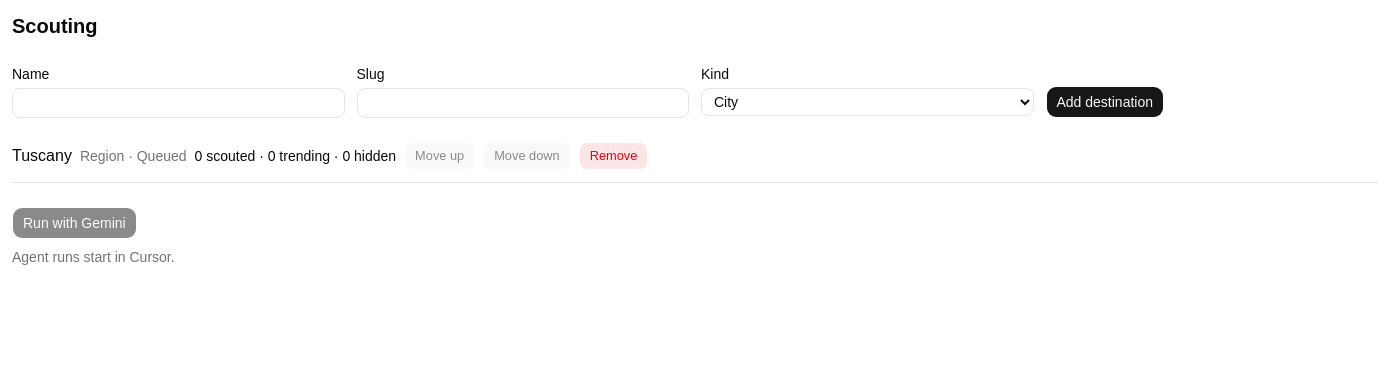
Run with Gemini stays disabled until a destination is selected and posts the slug without by
The width and height of the screenshot is (1378, 389).
Expected: the button "Run with Gemini" is disabled, [12,207,137,239]
Expected: the text "Agent runs start in Cursor." is shown, [12,249,175,265]
Click the button "Tuscany": (42, 156) [12,144,72,168]
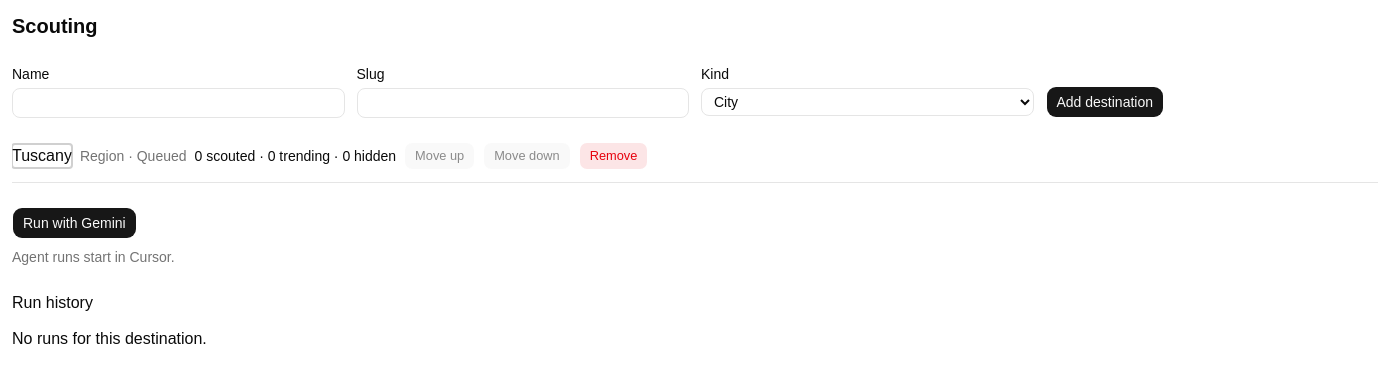
Expected: the button "Run with Gemini" is enabled
Click the button "Run with Gemini": (74, 223) [12,207,137,239]
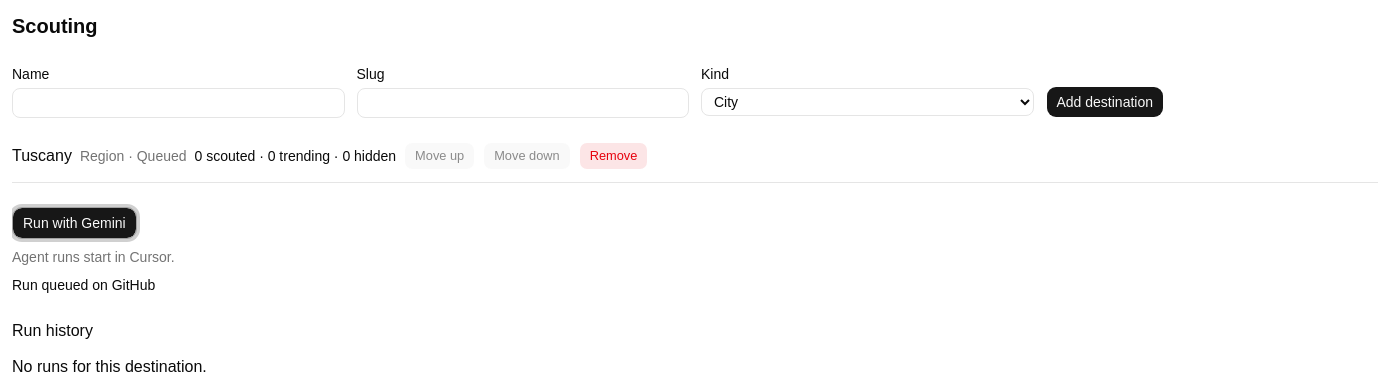
Expected: the text "Run queued on GitHub" is shown, [12,277,155,293]
